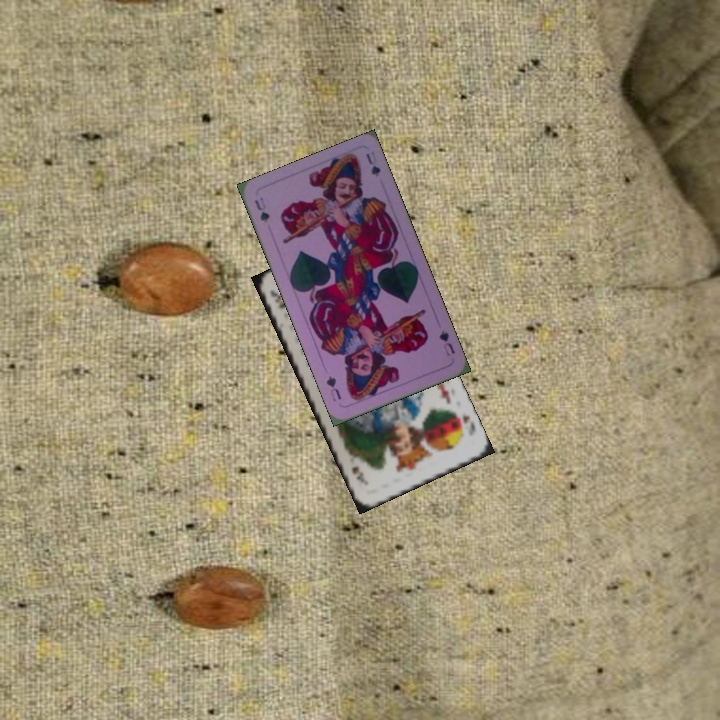GU: (435, 326, 457, 358), (251, 193, 272, 225)
SK: (266, 285, 289, 311), (458, 411, 478, 439)
